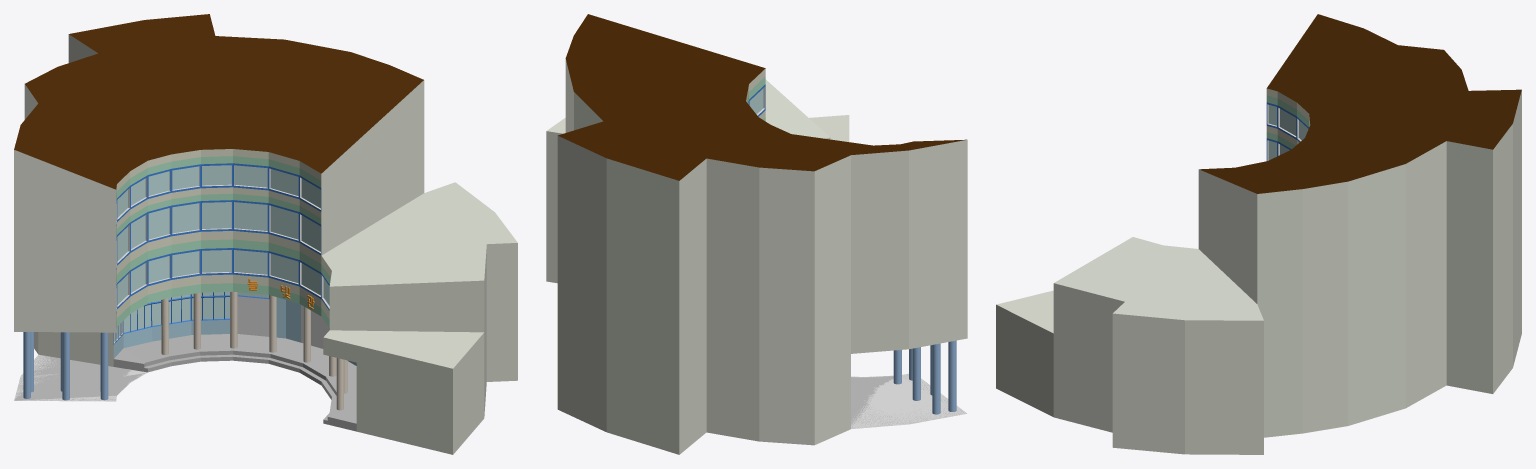
Rendered from Neul.fbx.
The picture shows the model from 3 angles, left to right: view 1: azimuth 30°, elevation 25°; view 2: azimuth 150°, elevation 25°; view 3: azimuth 270°, elevation 25°; orthographic projection. The views are drawn at different scales.
Visible parts, largest first — view 1: neul, 실린더.012, 실린더; view 2: neul, 실린더; view 3: neul.
Boxes of the visible parts, box(x1,y1,x2,y2) form: neul: box(14, 14, 517, 454); 실린더.012: box(161, 291, 347, 410); 실린더: box(23, 332, 108, 400); neul: box(546, 14, 967, 454); 실린더: box(893, 340, 956, 414); neul: box(996, 14, 1521, 454).
Bounding box in the file's own units: 9413 × 5460 × 10641.
